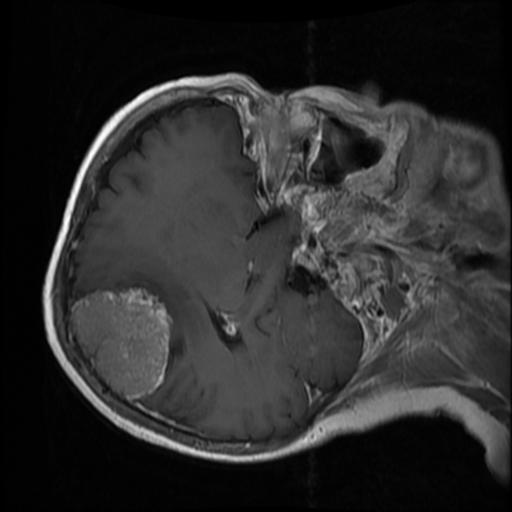meningioma: (69, 286, 171, 400)
